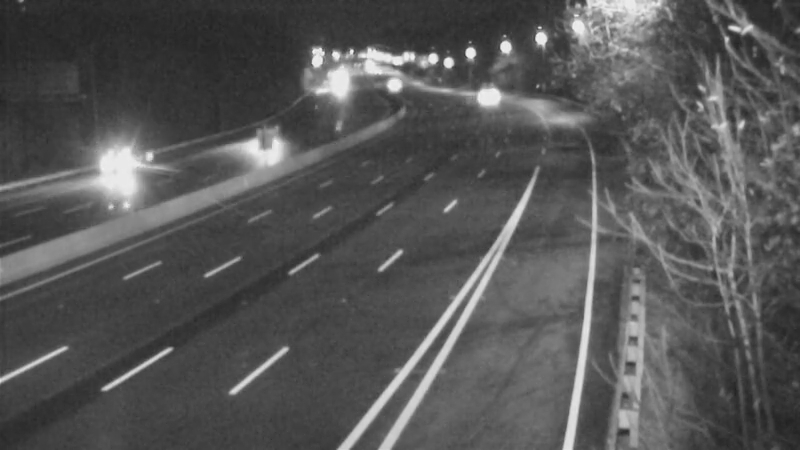vehicle: (78, 130, 158, 210), (369, 59, 419, 109), (455, 68, 505, 118), (240, 112, 290, 162)
